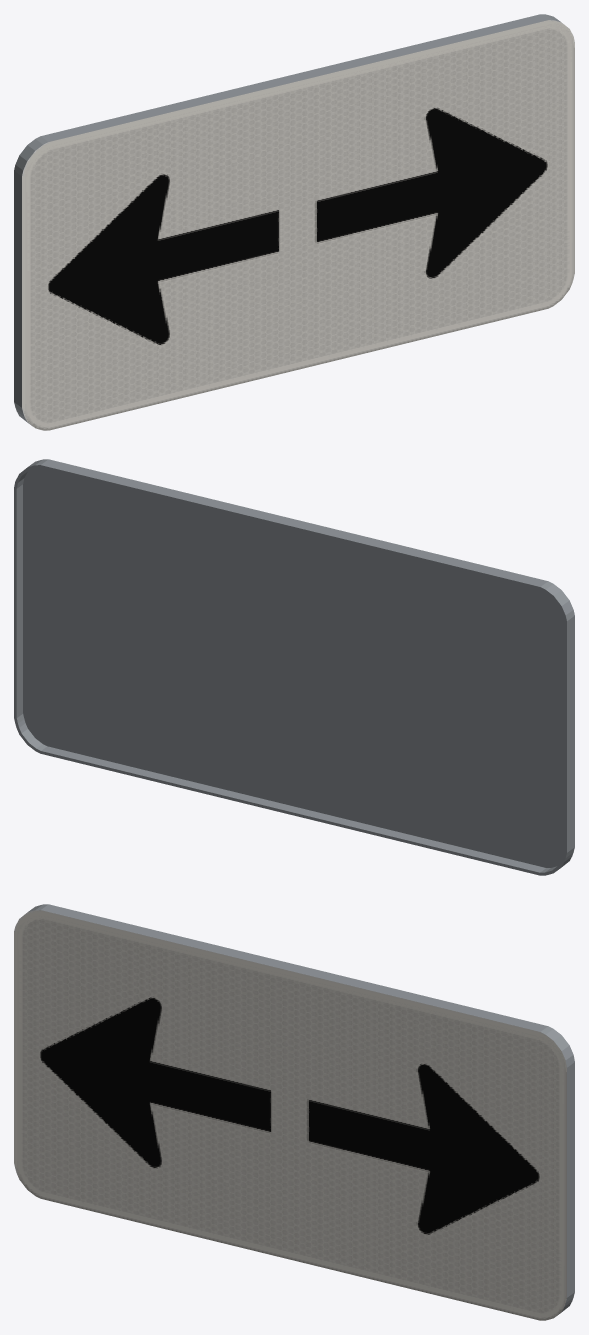
The picture shows the model from 3 angles, top to bottom: view 1: azimuth 30°, elevation 25°; view 2: azimuth 150°, elevation 25°; view 3: azimuth 330°, elevation 25°; orthographic projection.
Visible parts, largest first — view 1: cat_8aecac1e959a98e4; view 2: cat_8aecac1e959a98e4; view 3: cat_8aecac1e959a98e4.
Part boxes in pixels (left/top/right/bottom): cat_8aecac1e959a98e4: left=14, top=14, right=574, bottom=430; cat_8aecac1e959a98e4: left=14, top=459, right=574, bottom=875; cat_8aecac1e959a98e4: left=14, top=904, right=574, bottom=1320.
Bounding box in the file's own units: 0.6 × 0.015 × 0.2993.
2 materials, 1 textured.
